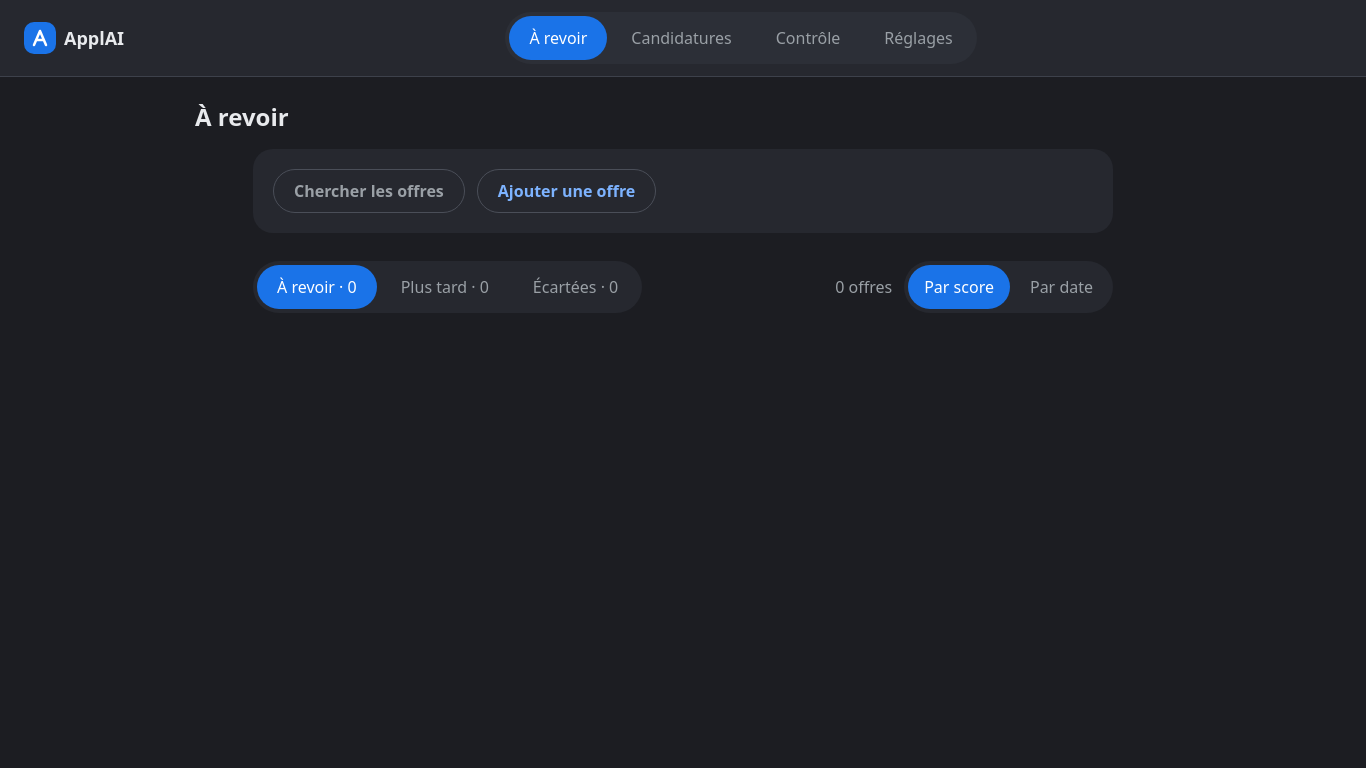
the Correct screen › tells the candidate when the draft could not be loaded
The image size is (1366, 768).
Click the button "Candidatures": [682, 38] box 611,16 -> 752,60
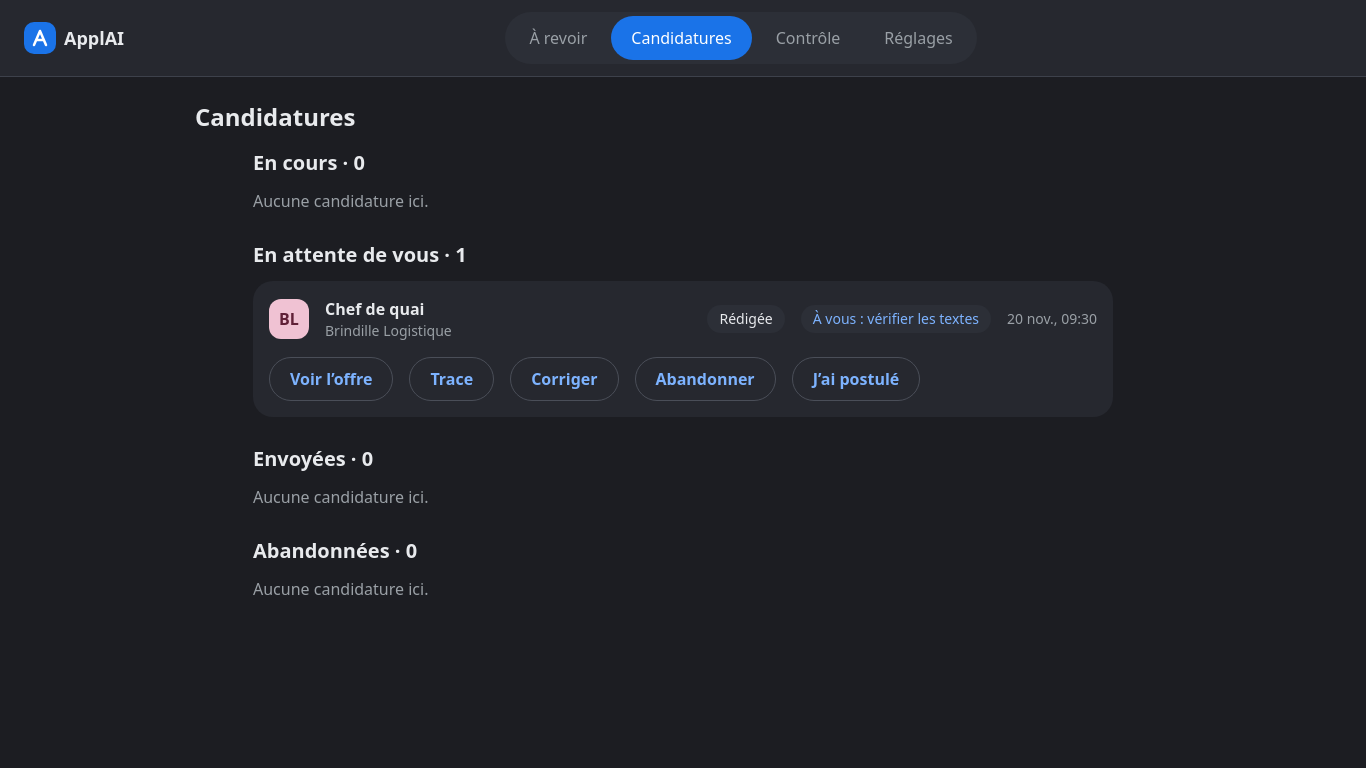
Click the button "Corriger": [564, 379] box 510,357 -> 618,401
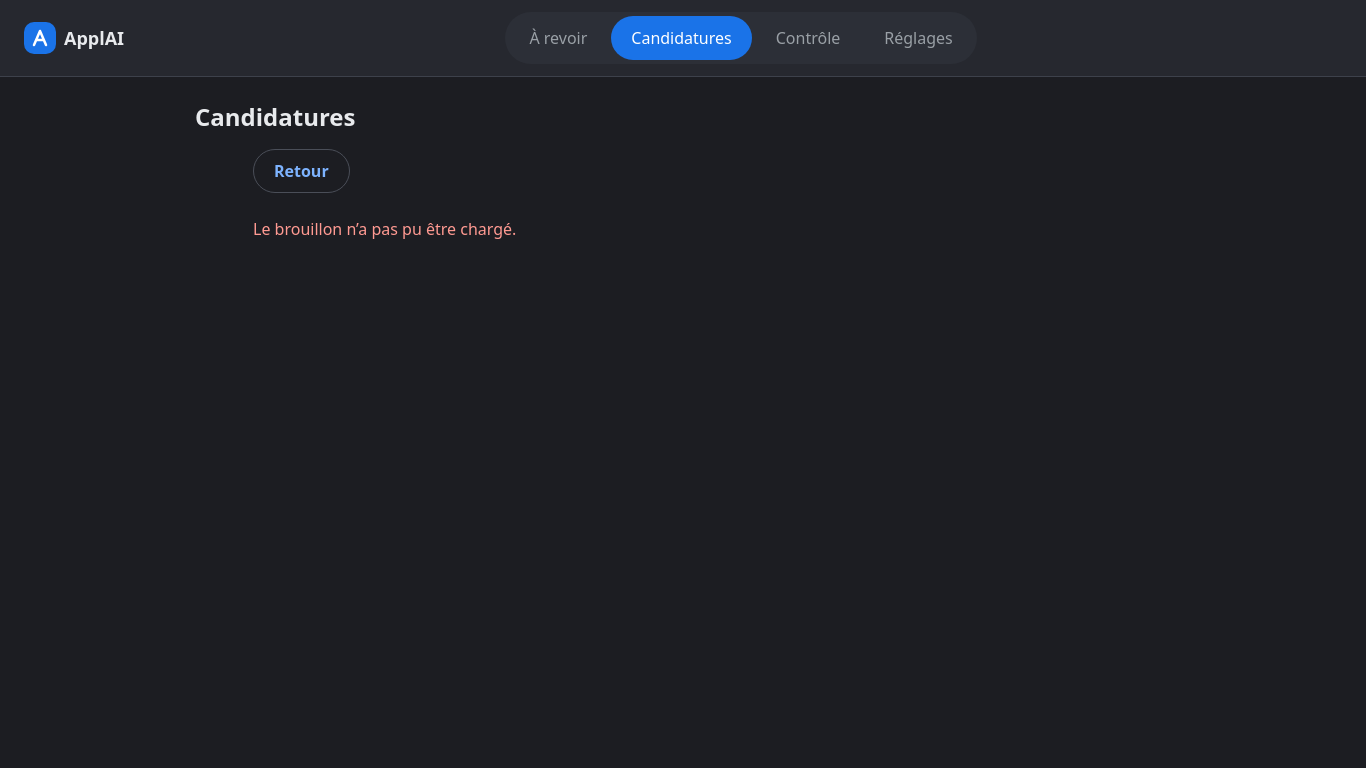
expect the message reads "Le brouillon n’a pas pu être chargé.": met, box 253,218 -> 516,240
